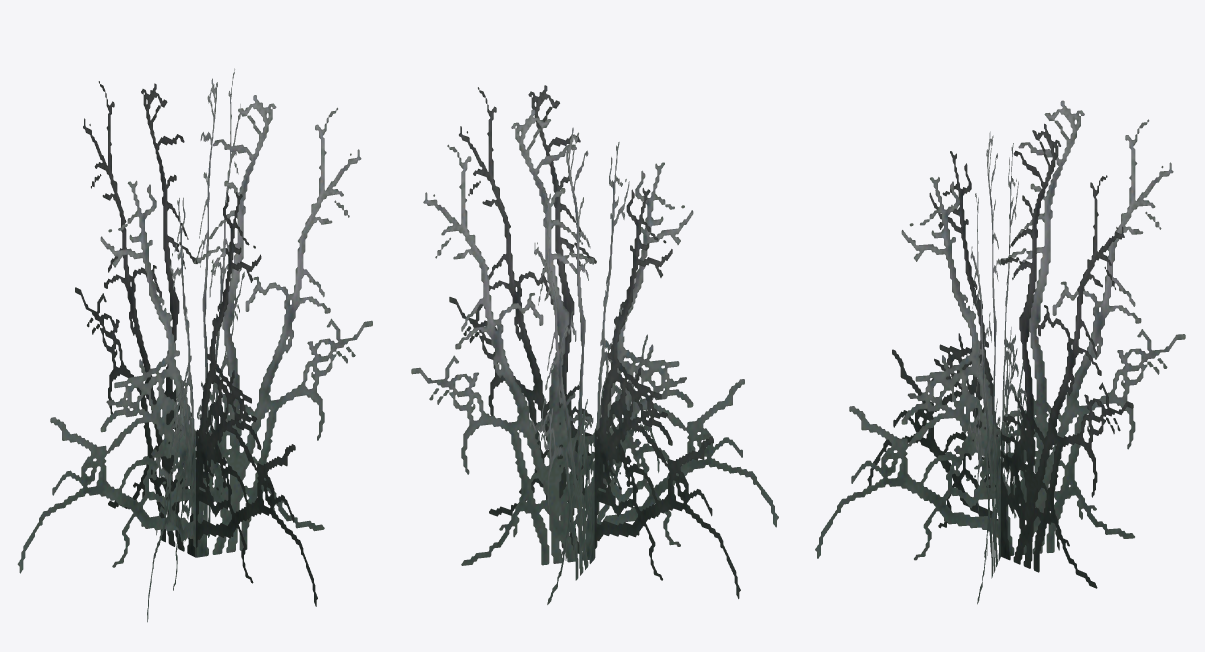
Rendered from Ice_glass03.FBX.
3 views of the same model, side by side, from view 1: azimuth 30°, elevation 25°; view 2: azimuth 150°, elevation 25°; view 3: azimuth 270°, elevation 25° (orthographic).
Parts seen in each view (by area): view 1: Plane011; view 2: Plane011; view 3: Plane011.
Part boxes in pixels (bbox=[...]): Plane011: bbox=[17, 68, 372, 622]; Plane011: bbox=[411, 85, 778, 604]; Plane011: bbox=[815, 100, 1185, 604].
Size of the model in its own units: 846 by 1141 by 846.
